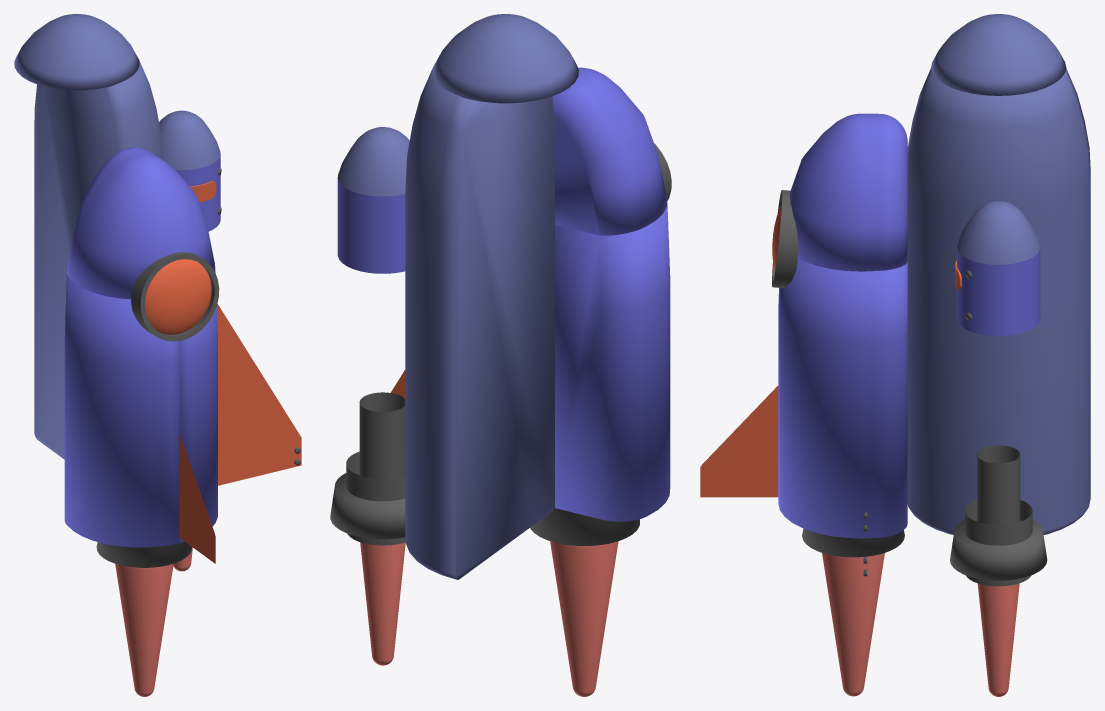
The model's file is Spaceship.glb.
The picture shows the model from 3 angles, left to right: view 1: azimuth 30°, elevation 25°; view 2: azimuth 150°, elevation 25°; view 3: azimuth 270°, elevation 25°; orthographic projection. The views are drawn at different scales.
Parts seen in each view (by area): view 1: Cylinder.033, Cylinder.006, Plane.003, Cylinder.004, Cylinder.005, Roundcube.001, Cylinder.007, Plane.004, Circle.001, Cylinder.013, Cylinder.003; view 2: Cylinder.006, Cylinder.033, Cylinder.004, Cylinder.005, Cylinder.009, Cylinder.003, Cylinder.010, Cylinder.007, Cylinder.016, Cylinder.013; view 3: Cylinder.006, Cylinder.033, Cylinder.004, Cylinder.003, Plane.004, Cylinder.005, Cylinder.009, Cylinder.007, Cylinder.016, Cylinder.010, Cylinder.013, Circle.001.
Boxes of the visible parts, x1,y1,x2,y2 form: Cylinder.033: [64, 147, 217, 547]; Cylinder.006: [34, 56, 162, 459]; Plane.003: [216, 304, 301, 485]; Cylinder.004: [14, 14, 139, 90]; Cylinder.005: [115, 563, 173, 696]; Roundcube.001: [145, 259, 211, 334]; Cylinder.007: [159, 110, 220, 169]; Plane.004: [179, 434, 215, 563]; Circle.001: [131, 252, 219, 341]; Cylinder.013: [96, 541, 191, 567]; Cylinder.003: [175, 155, 220, 231]; Cylinder.006: [405, 64, 554, 579]; Cylinder.033: [552, 67, 670, 521]; Cylinder.004: [432, 14, 578, 103]; Cylinder.005: [550, 541, 618, 696]; Cylinder.009: [346, 392, 405, 545]; Cylinder.003: [337, 179, 405, 273]; Cylinder.010: [360, 542, 405, 665]; Cylinder.007: [337, 127, 409, 196]; Cylinder.016: [330, 473, 405, 539]; Cylinder.013: [530, 508, 639, 545]; Cylinder.006: [907, 68, 1090, 534]; Cylinder.033: [778, 113, 907, 538]; Cylinder.004: [931, 14, 1066, 95]; Cylinder.003: [957, 249, 1040, 335]; Plane.004: [700, 385, 778, 497]; Cylinder.005: [822, 553, 884, 696]; Cylinder.009: [964, 445, 1032, 586]; Cylinder.007: [957, 200, 1040, 264]; Cylinder.016: [950, 519, 1047, 580]; Cylinder.010: [977, 583, 1019, 696]; Cylinder.013: [802, 528, 904, 557]; Circle.001: [772, 190, 798, 287].
Size of the model in its own units: 0.9993 by 2.57 by 1.35.
